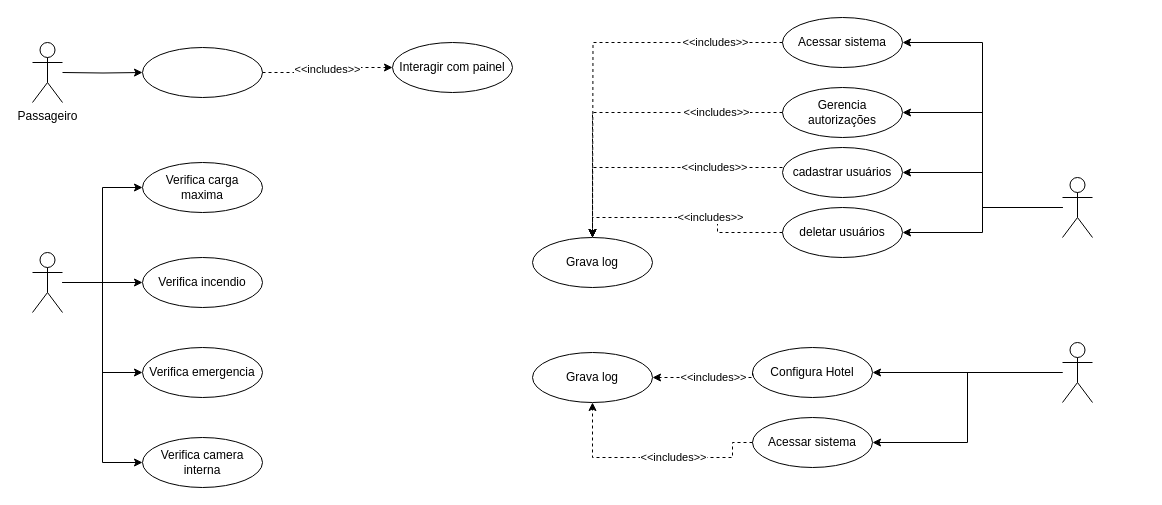
Image size: 1162x505. Some labels were removed from this diagram. Here are the shapes that lost their labels. From the top down, the centre of each, then its label:
point 202,72: Seleciona andar
point 1077,207: Master
point 47,282: Periféricos
point 1077,372: Usuario sala de comando
